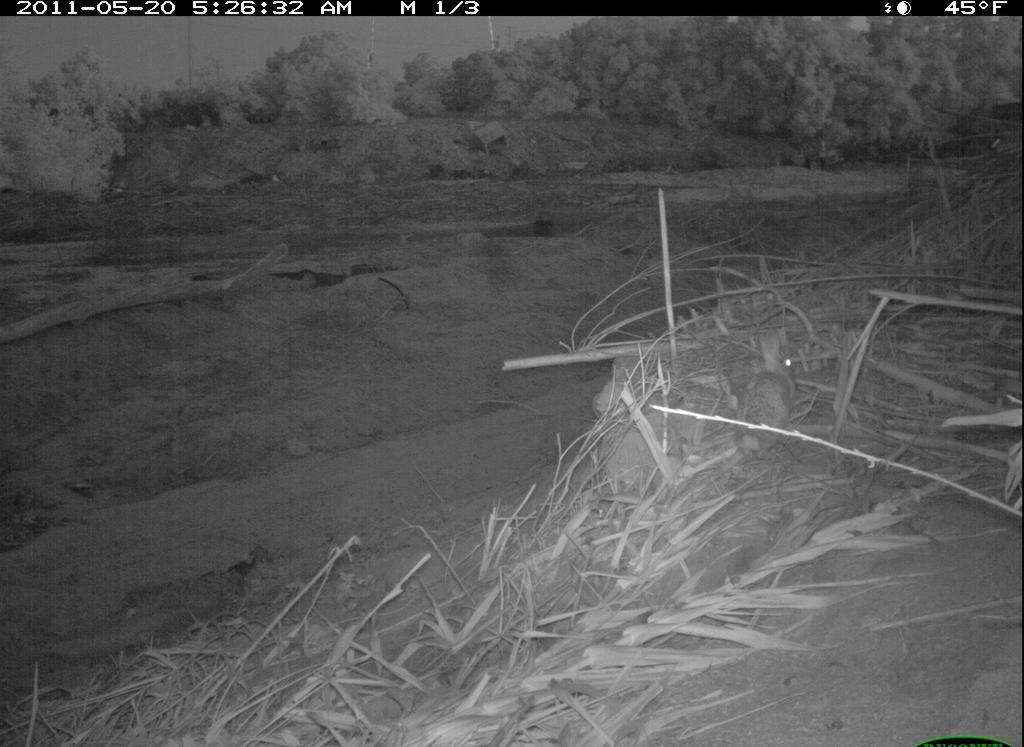rabbit: (735, 321, 804, 466)
